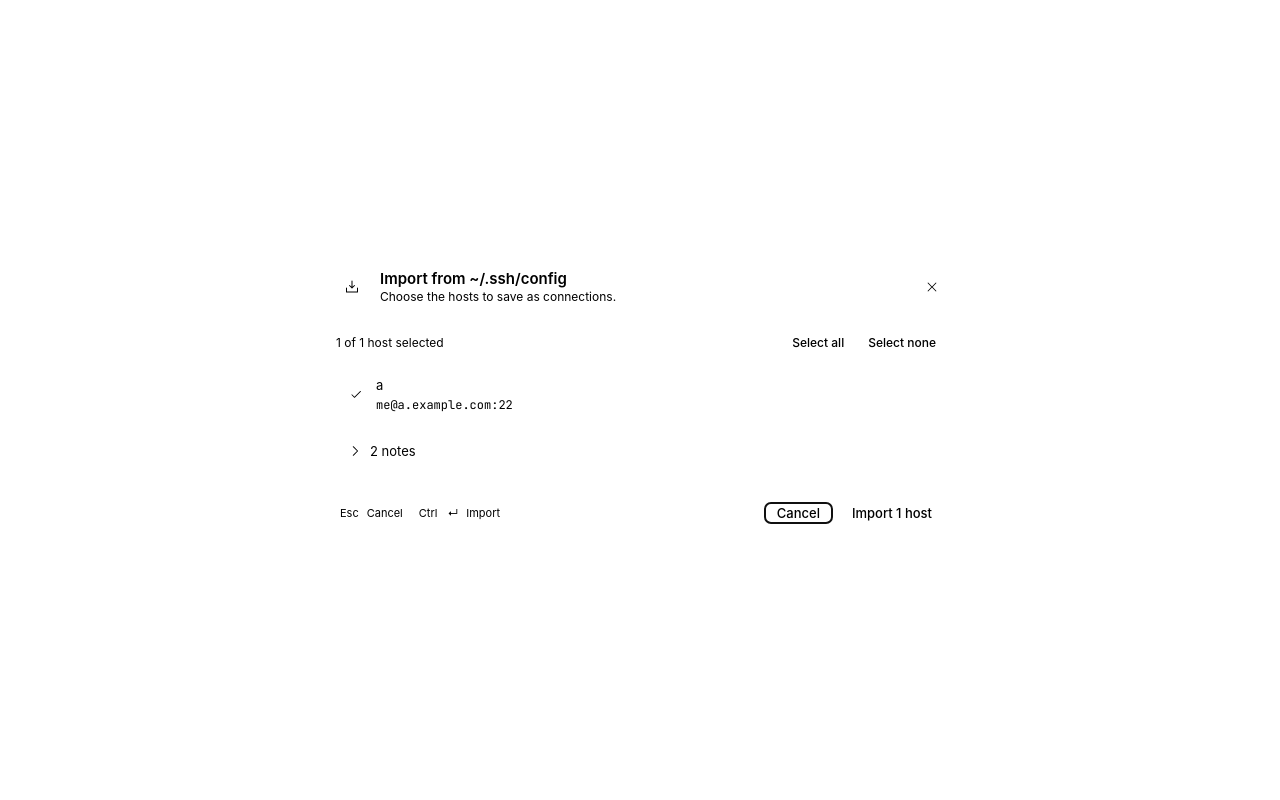
SshConfigImportDialog › summarises the warnings from the config
Expected: the text "Match block" is not shown
Click the button "2 notes" at [393, 451], box [336, 433, 944, 469]
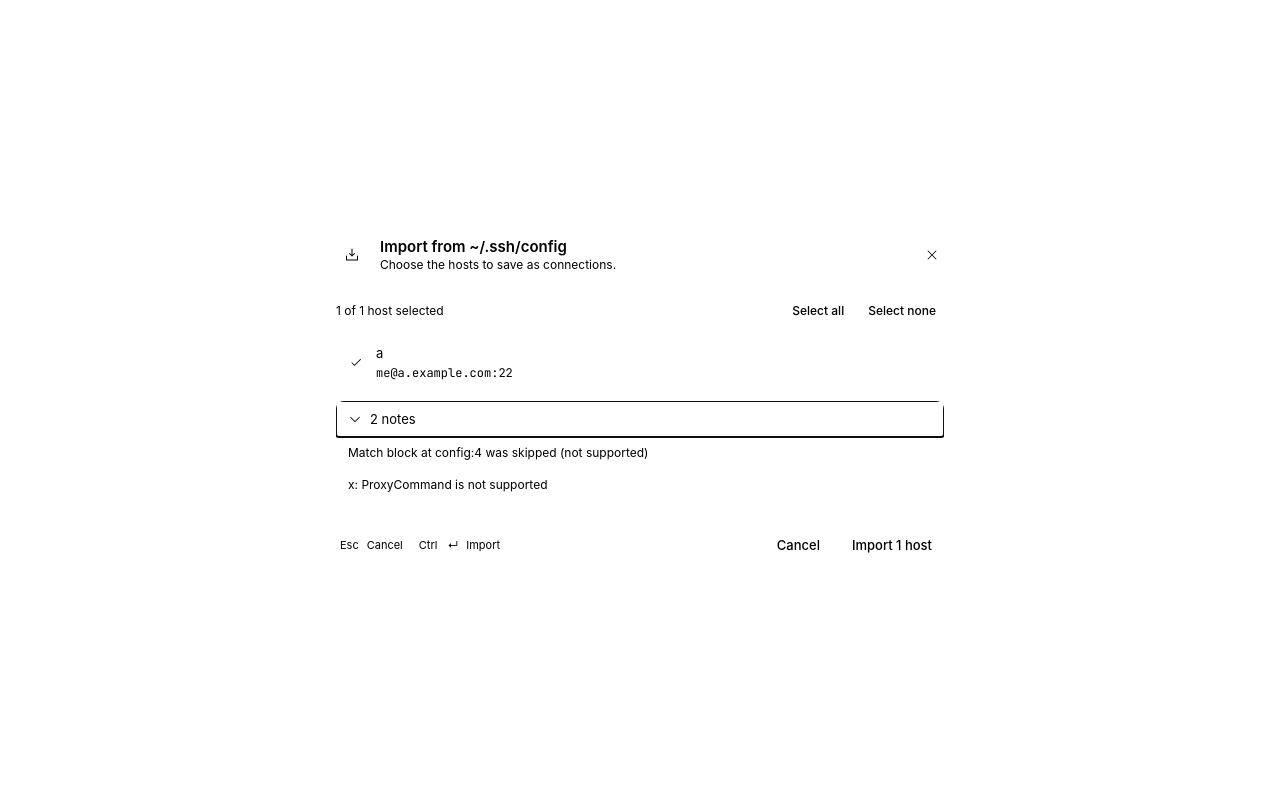
Expected: the text "Match block at config:4 was skipped (not supported)" is shown, [348, 445, 648, 460]
